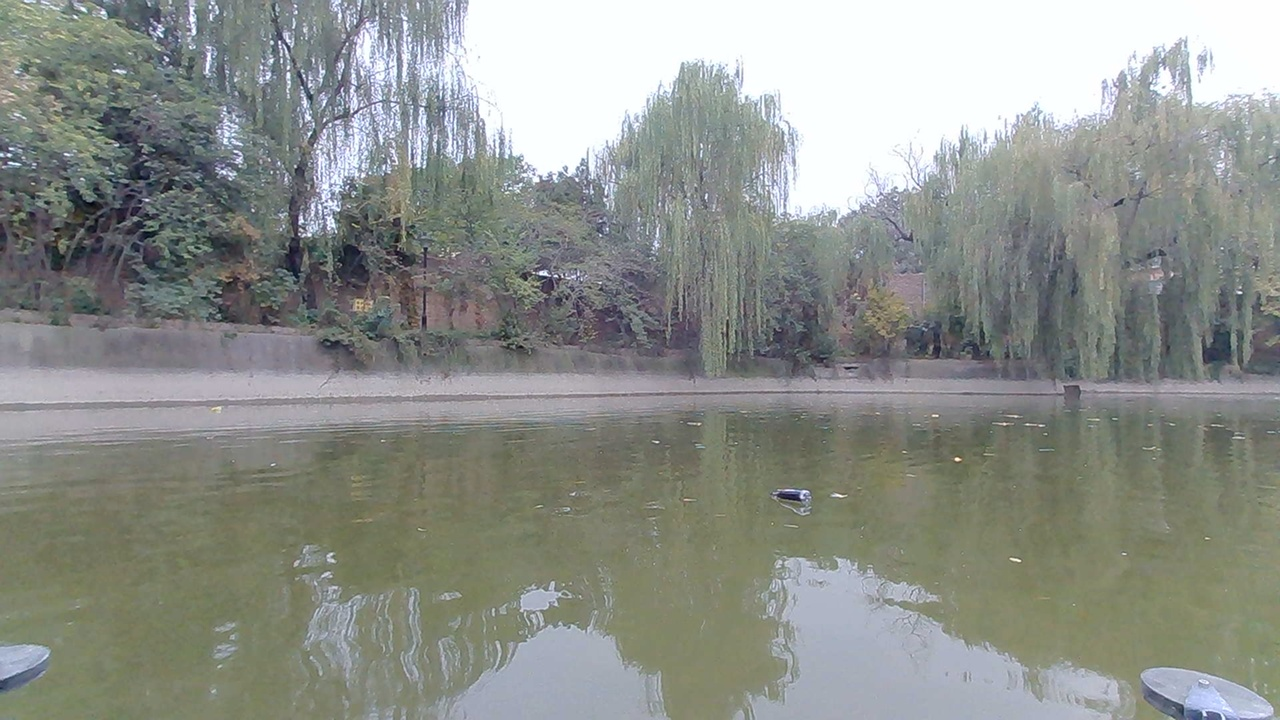bottle: (771, 480, 825, 514)
